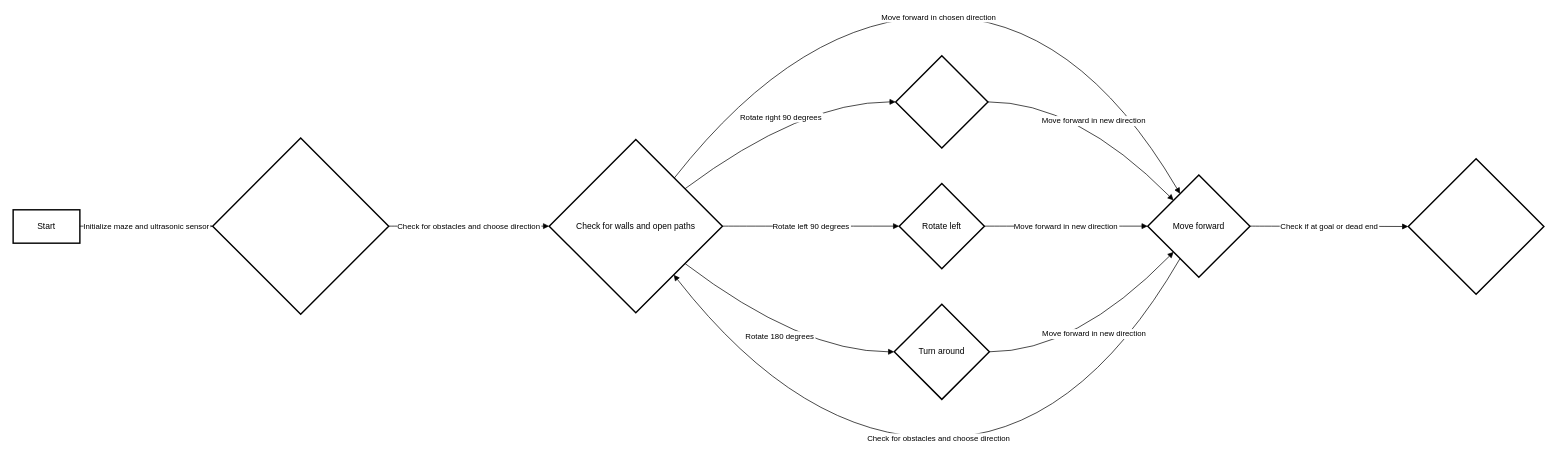
Some shapes in this 1556 by 454 pixel diagram are drawn without their labels. Each missing label, with the box of its shape:
End of maze solving: (1407, 158, 1544, 295)
Initialize variables and set initial direction: (212, 137, 389, 315)
Rotate right: (895, 55, 988, 148)
